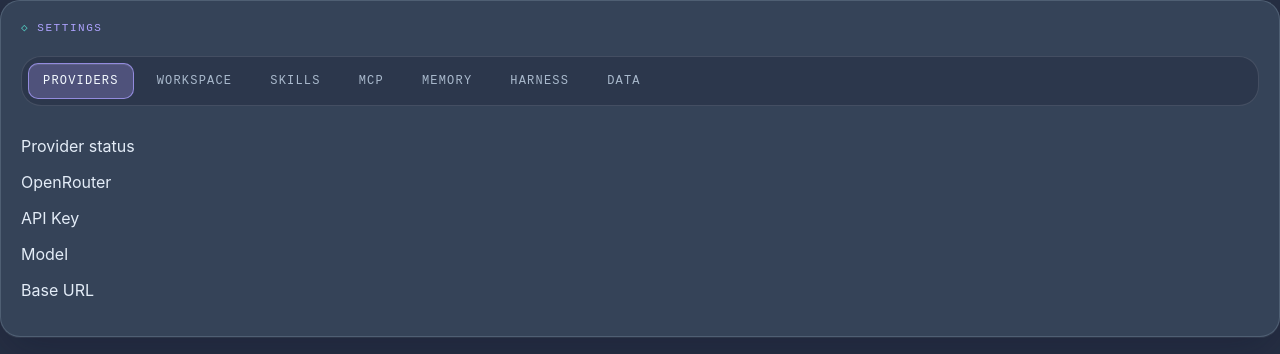
Test: SettingsFormCard › renders each supplied settings panel in its tab
expect the text "Provider status" is shown: met, box x1=21 y1=136 x2=135 y2=156
expect the text "OpenRouter" is shown: met, box x1=21 y1=172 x2=111 y2=192
Click the tab "Workspace" at x=194, y=81, box x1=142 y1=63 x2=247 y2=99
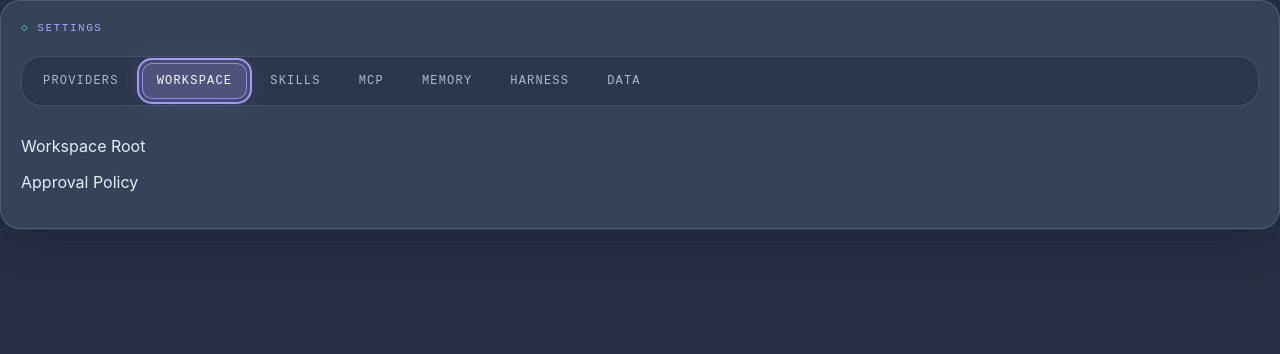
expect the text "Workspace Root" is shown: met, box x1=21 y1=136 x2=145 y2=156
expect the text "Approval Policy" is shown: met, box x1=21 y1=172 x2=138 y2=192
expect the text "Provider status" is gone: met
Click the tab "Skills" at x=296, y=81, box x1=255 y1=63 x2=336 y2=99
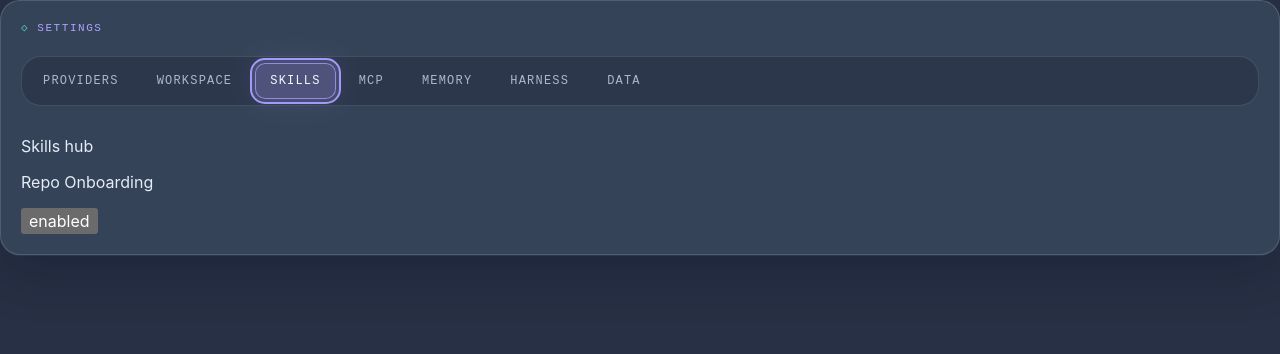
expect the text "Skills hub" is shown: met, box x1=21 y1=136 x2=93 y2=156
expect the text "Repo Onboarding" is shown: met, box x1=21 y1=172 x2=153 y2=192
expect the switch labelled "enabled" is shown: met, box x1=21 y1=208 x2=98 y2=234
Click the tab "MCP" at x=371, y=81, box x1=344 y1=63 x2=399 y2=99
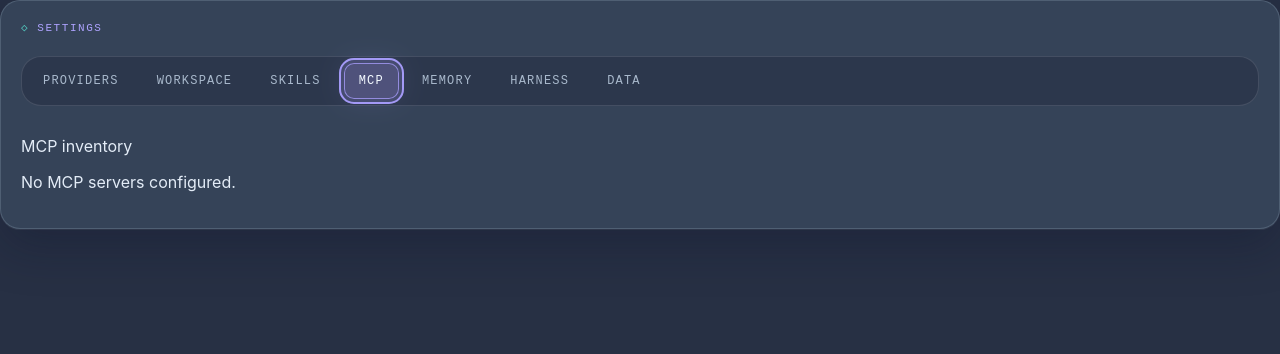
expect the text "MCP inventory" is shown: met, box x1=21 y1=136 x2=132 y2=156
expect the text "No MCP servers configured." is shown: met, box x1=21 y1=172 x2=236 y2=192
Click the tab "Data" at x=624, y=81, box x1=592 y1=63 x2=656 y2=99
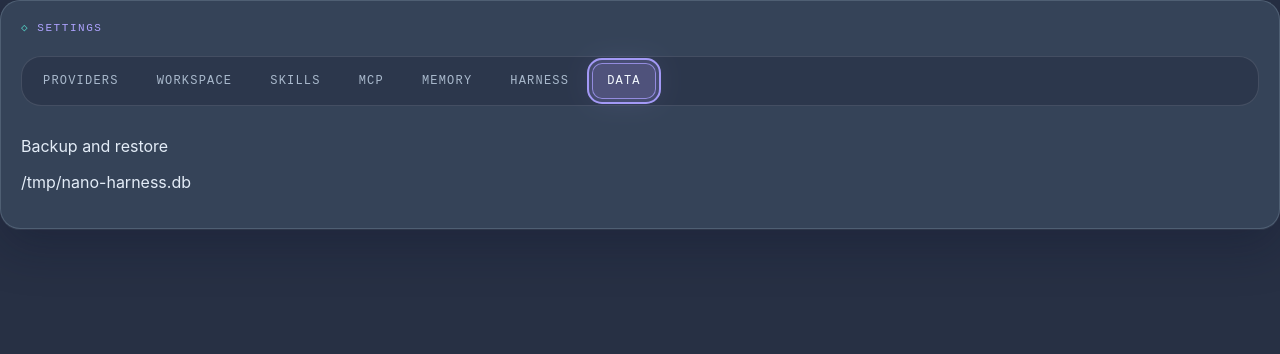
expect the text "Workspace Root" is not shown: met
expect the text "Backup and restore" is shown: met, box x1=21 y1=136 x2=168 y2=156
expect the text "/tmp/nano-harness.db" is shown: met, box x1=21 y1=172 x2=191 y2=192
